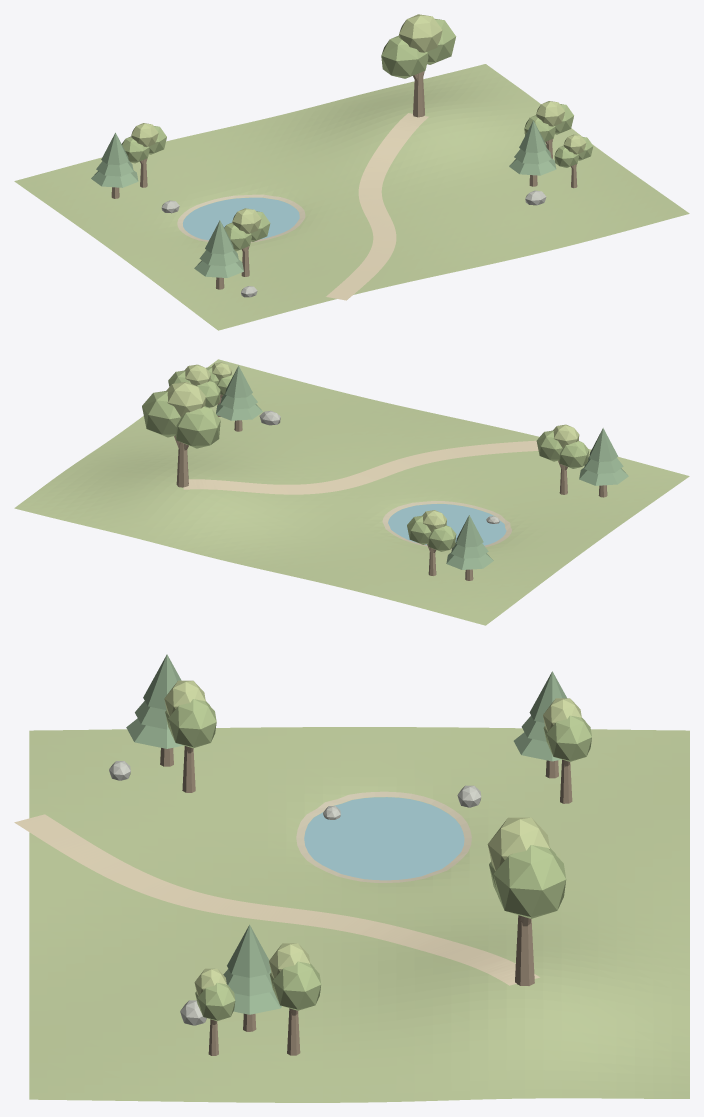
File: forest-web.glb
3 views of the same model, one above another, from view 1: azimuth 30°, elevation 25°; view 2: azimuth 150°, elevation 25°; view 3: azimuth 270°, elevation 25° (orthographic). The views are drawn at different scales.
Parts seen in each view (by area): view 1: grass, leaf, path, pine, leaf_light, water, trunk, shore, rock; view 2: grass, leaf, pine, path, leaf_light, water, trunk, shore; view 3: grass, leaf, water, path, pine, leaf_light, trunk, shore, rock.
Boxes of the visible parts, x1,y1,x2,y2 form: grass: (14, 64, 689, 330); leaf: (122, 19, 593, 251); path: (326, 113, 428, 300); pine: (91, 120, 556, 277); leaf_light: (131, 14, 586, 233); water: (183, 197, 299, 240); trunk: (111, 71, 577, 289); shore: (177, 194, 305, 242); rock: (161, 190, 546, 297); grass: (14, 359, 689, 625); leaf: (142, 367, 588, 551); pine: (216, 365, 628, 569); path: (183, 440, 538, 494); leaf_light: (166, 362, 579, 532); water: (388, 504, 506, 545); trunk: (174, 394, 607, 580); shore: (382, 501, 511, 549); grass: (29, 727, 689, 1102); leaf: (165, 699, 591, 1020); water: (304, 797, 464, 880); path: (14, 814, 539, 985); pine: (126, 654, 566, 1014); leaf_light: (164, 680, 581, 995); trunk: (160, 746, 572, 1055); shore: (296, 791, 471, 882); rock: (109, 761, 481, 1025).
Size of the model in its own units: 32 by 8.48 by 24.56.
